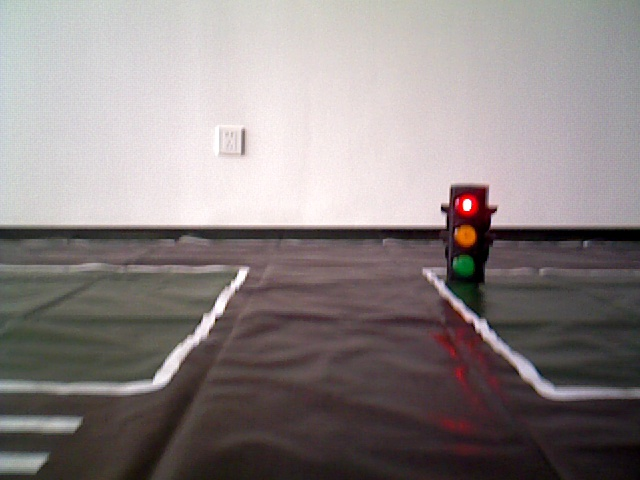red: (450, 187, 483, 288)
